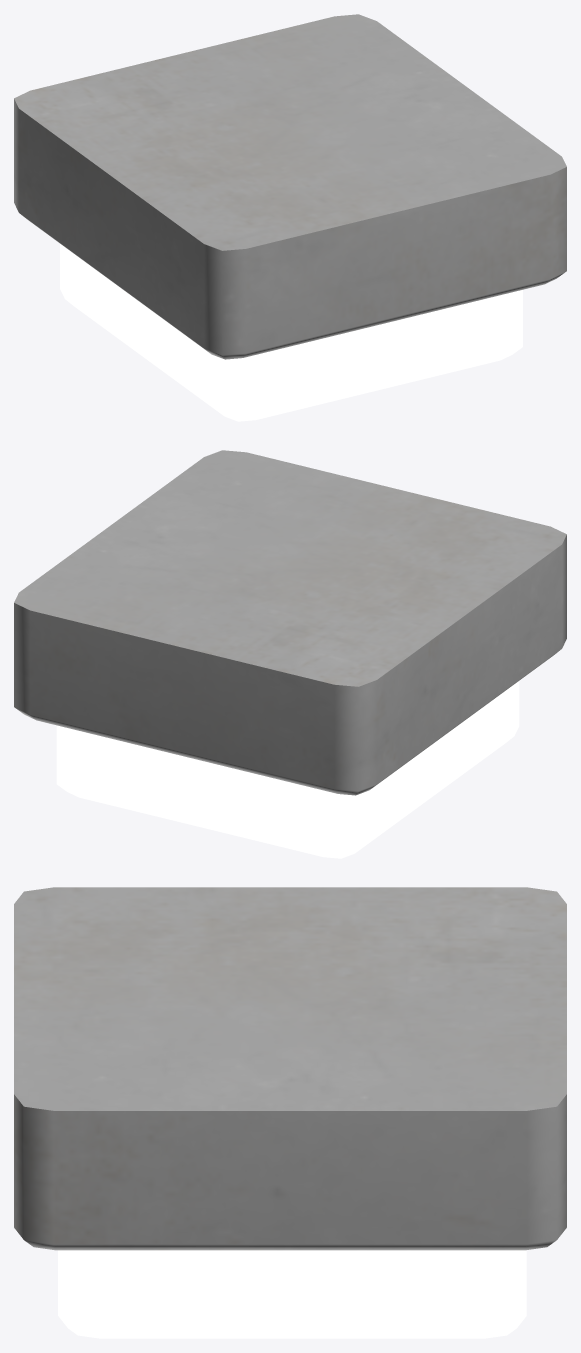
Rendered from SM_Roof_Light3.fbx.
3 renders of one model, top to bottom at view 1: azimuth 30°, elevation 25°; view 2: azimuth 150°, elevation 25°; view 3: azimuth 270°, elevation 25°, orthographic. The views are drawn at different scales.
Visible parts, largest first — view 1: SM_Roof_Light3_LOD0; view 2: SM_Roof_Light3_LOD0; view 3: SM_Roof_Light3_LOD0.
Part boxes in pixels (x1,y1,x2,y2): SM_Roof_Light3_LOD0: [14, 14, 566, 421]; SM_Roof_Light3_LOD0: [14, 450, 566, 858]; SM_Roof_Light3_LOD0: [14, 887, 566, 1338].
Size of the model in its own units: 19.18 by 20.05 by 9.99.
Materials: 2 (1 with a texture image).
